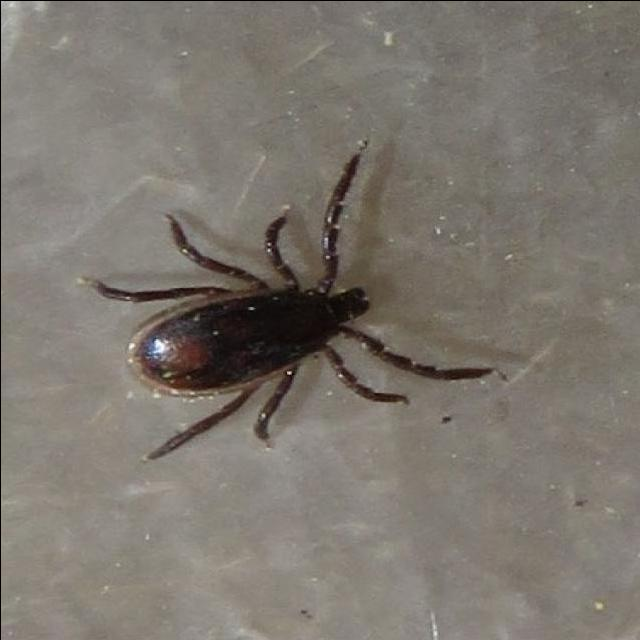Ixodes Ricinus-M: (80, 151, 487, 462)
